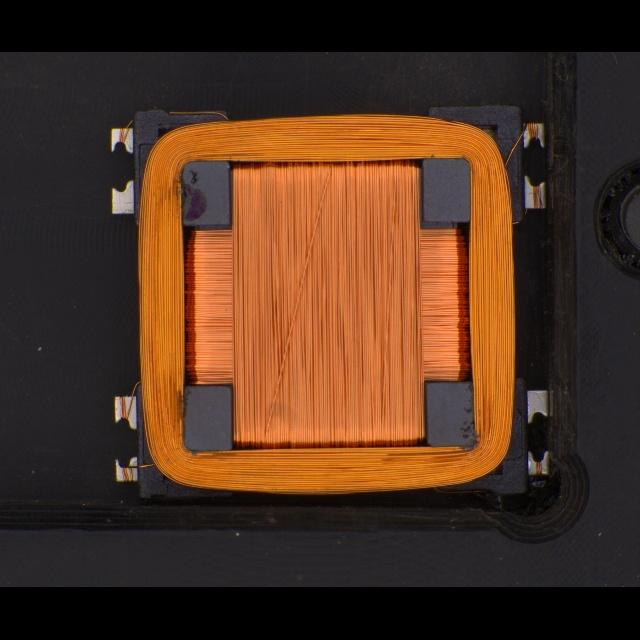Winding_Z: (126, 107, 526, 499)
